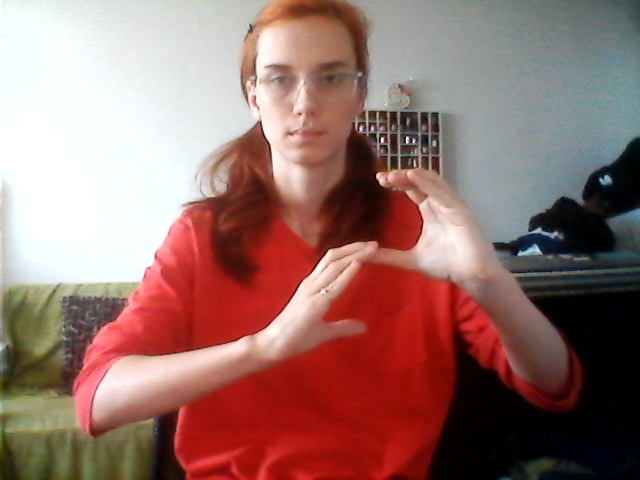s: (282, 157, 493, 377)
